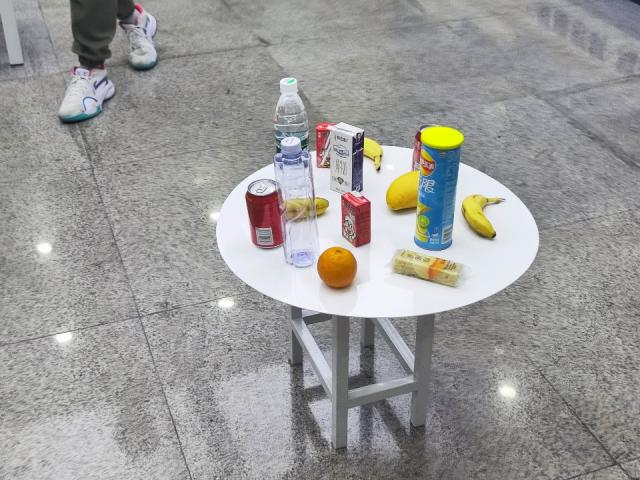Canned_drinks: (243, 179, 283, 251)
bottle: (278, 137, 321, 271)
cylinder: (416, 128, 458, 263)
drink_box: (334, 190, 379, 257), (329, 119, 366, 194)
